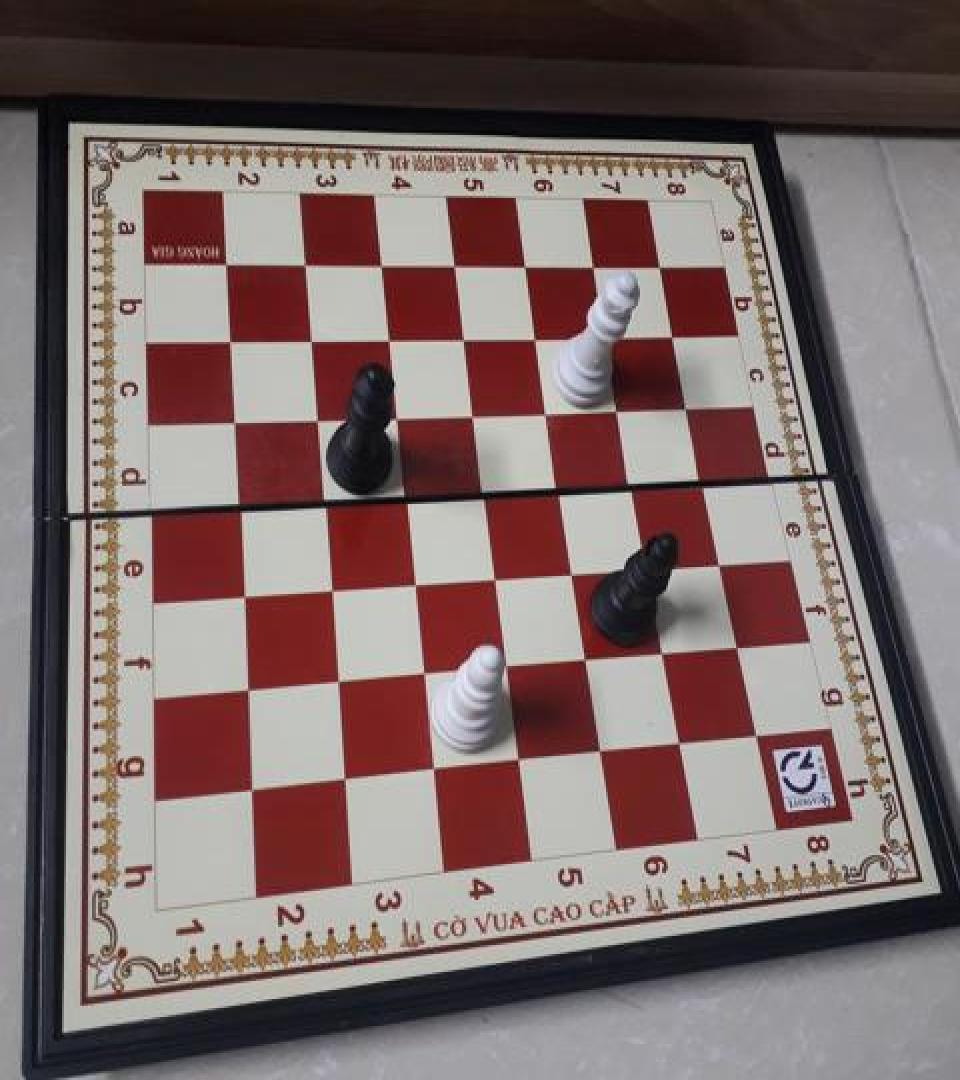xcorner: (647, 251, 677, 285), (580, 251, 610, 285), (511, 251, 541, 285), (440, 251, 470, 285), (366, 251, 396, 285), (290, 251, 320, 285), (212, 251, 242, 285), (662, 318, 692, 352), (522, 320, 552, 354), (449, 322, 479, 356), (374, 323, 404, 357), (296, 324, 326, 358), (215, 325, 245, 359), (676, 390, 706, 424), (606, 392, 636, 426), (534, 395, 564, 429), (459, 397, 489, 431), (382, 399, 412, 433), (302, 402, 332, 436), (219, 405, 249, 439), (620, 469, 650, 503), (546, 472, 576, 506), (470, 476, 500, 510), (391, 480, 421, 514), (309, 484, 339, 518), (224, 488, 254, 522), (709, 544, 739, 578), (635, 549, 665, 583), (559, 554, 589, 588), (481, 560, 511, 594), (400, 566, 430, 600), (315, 572, 345, 606), (228, 577, 258, 611), (651, 634, 681, 668), (573, 641, 603, 675), (493, 648, 523, 682), (409, 656, 439, 690), (588, 734, 618, 768), (505, 742, 535, 776), (330, 762, 360, 796), (238, 770, 268, 804), (593, 320, 623, 353), (692, 465, 722, 498), (726, 628, 756, 661), (323, 664, 353, 697), (233, 672, 263, 705), (744, 716, 774, 749), (668, 725, 698, 758), (419, 752, 449, 785)
